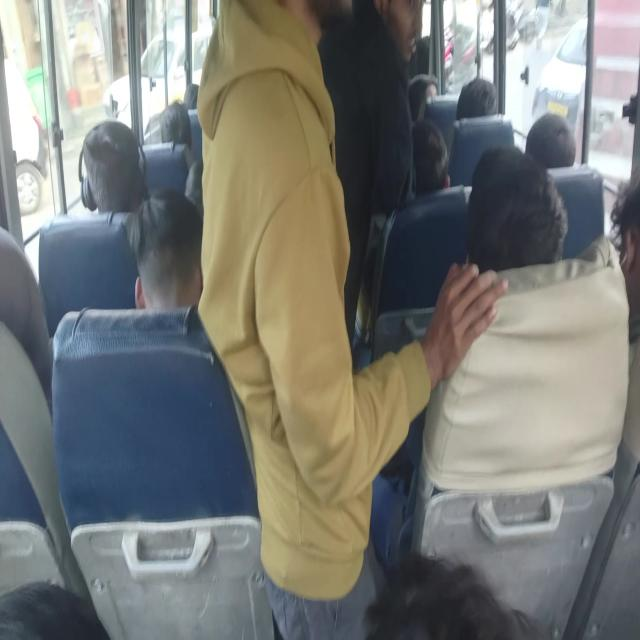person: (76, 189, 245, 623), (250, 0, 332, 247), (378, 121, 460, 368), (363, 552, 546, 639), (352, 0, 427, 163), (0, 220, 53, 414), (607, 159, 640, 465), (126, 191, 206, 311), (469, 156, 565, 253), (0, 582, 112, 639), (451, 77, 503, 169), (83, 134, 138, 198), (524, 112, 576, 172), (159, 101, 193, 150), (182, 83, 200, 111)
